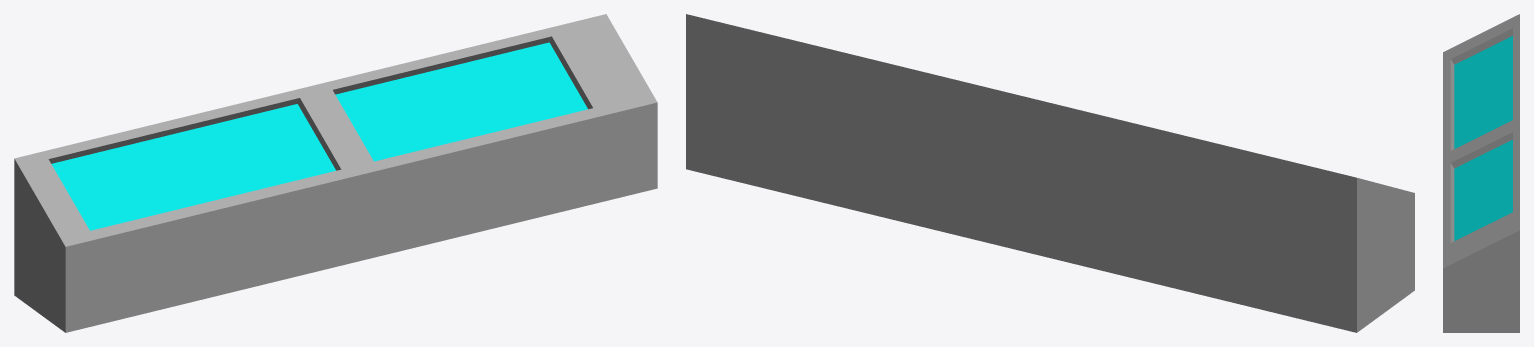
Rendered from Mod_Console.fbx.
3 views of the same model, side by side, from view 1: azimuth 30°, elevation 25°; view 2: azimuth 150°, elevation 25°; view 3: azimuth 270°, elevation 25° (orthographic). The views are drawn at different scales.
Parts seen in each view (by area): view 1: Mod_Console; view 2: Mod_Console; view 3: Mod_Console.
Boxes of the visible parts, <box> form: Mod_Console: <box>14,14,657,332</box>; Mod_Console: <box>686,14,1414,332</box>; Mod_Console: <box>1443,14,1519,332</box>.
Bounding box in the file's own units: 603 × 133 × 90.29.
